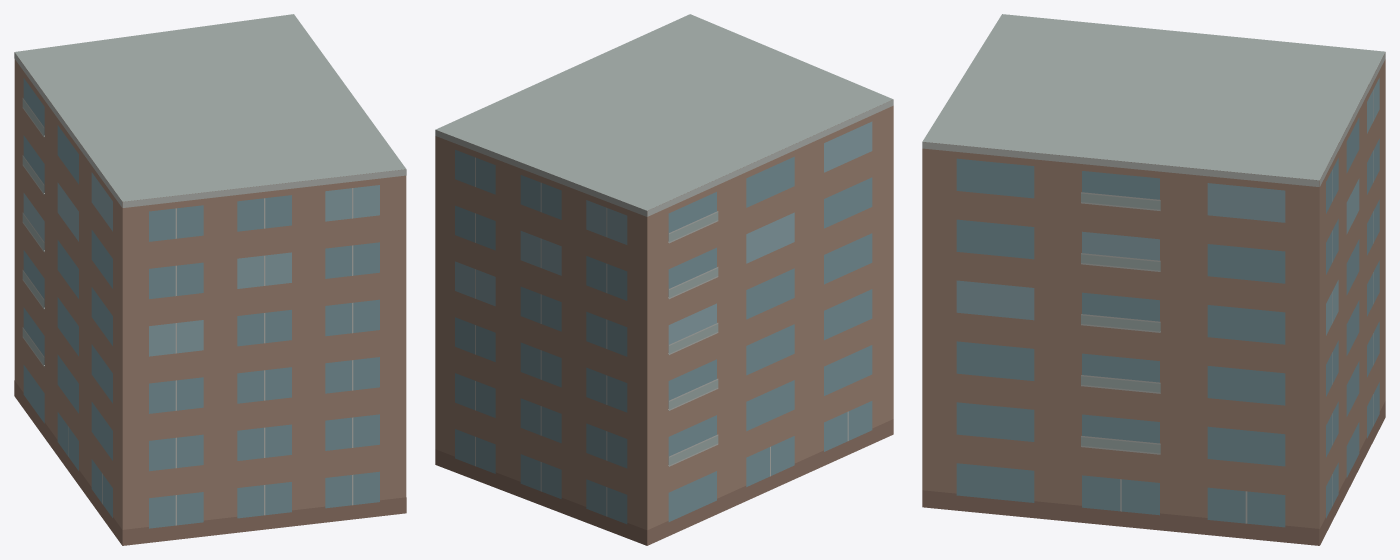
The model's file is survey-upis-32889257.glb.
3 renders of one model, left to right at view 1: azimuth 30°, elevation 25°; view 2: azimuth 150°, elevation 25°; view 3: azimuth 270°, elevation 25°, orthographic. The views are drawn at different scales.
Parts seen in each view (by area): view 1: survey-upis-32889257.tmp; view 2: survey-upis-32889257.tmp; view 3: survey-upis-32889257.tmp.
Boxes of the visible parts, <box> form: survey-upis-32889257.tmp: <box>14,14,406,545</box>; survey-upis-32889257.tmp: <box>435,14,893,545</box>; survey-upis-32889257.tmp: <box>922,14,1385,545</box>.
Size of the model in its own units: 12.85 by 13.15 by 15.12.
